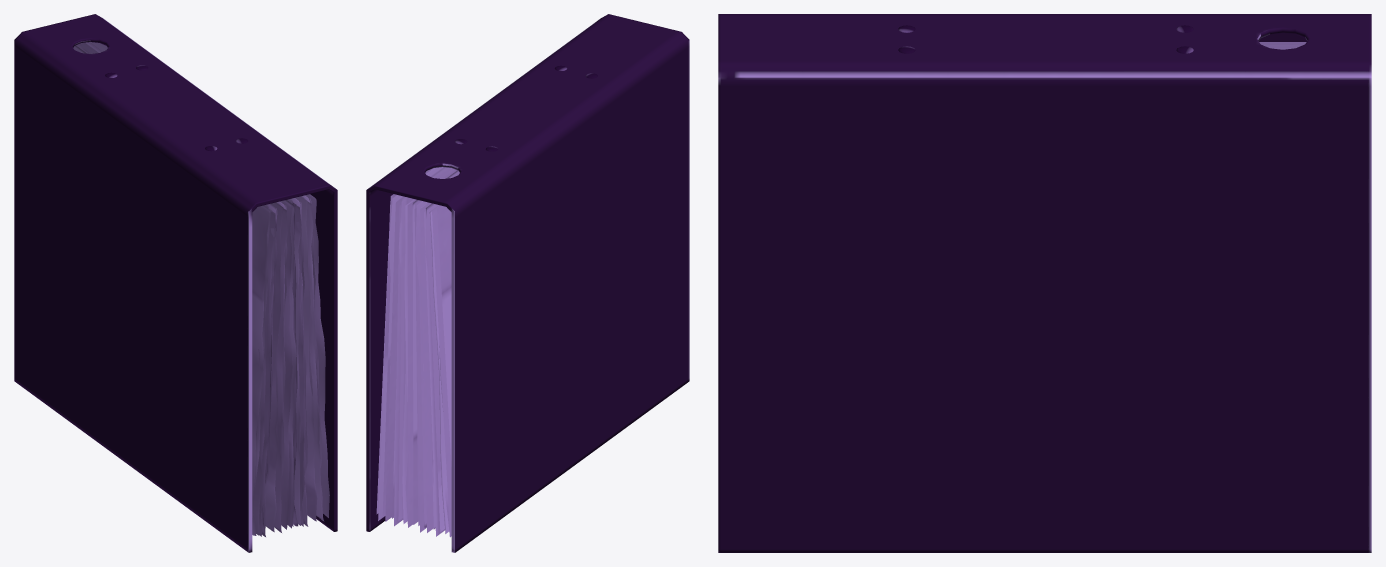
File: purple_book.obj
3 views of the same model, side by side, from view 1: azimuth 30°, elevation 25°; view 2: azimuth 150°, elevation 25°; view 3: azimuth 270°, elevation 25° (orthographic). The views are drawn at different scales.
Visible parts, largest first — view 1: purple_book_Chocofur_Office_06.000, purple_book_Chocofur_Office_06.002; view 2: purple_book_Chocofur_Office_06.000, purple_book_Chocofur_Office_06.002; view 3: purple_book_Chocofur_Office_06.000.
Part boxes in pixels (bbox=[...]): purple_book_Chocofur_Office_06.000: bbox=[14, 14, 337, 552]; purple_book_Chocofur_Office_06.002: bbox=[73, 42, 329, 536]; purple_book_Chocofur_Office_06.000: bbox=[366, 14, 689, 552]; purple_book_Chocofur_Office_06.002: bbox=[376, 167, 459, 537]; purple_book_Chocofur_Office_06.000: bbox=[718, 14, 1371, 552].
Size of the model in its own units: 0.0755 by 0.2833 by 0.3455.
Materials: 3 (3 with a texture image).
